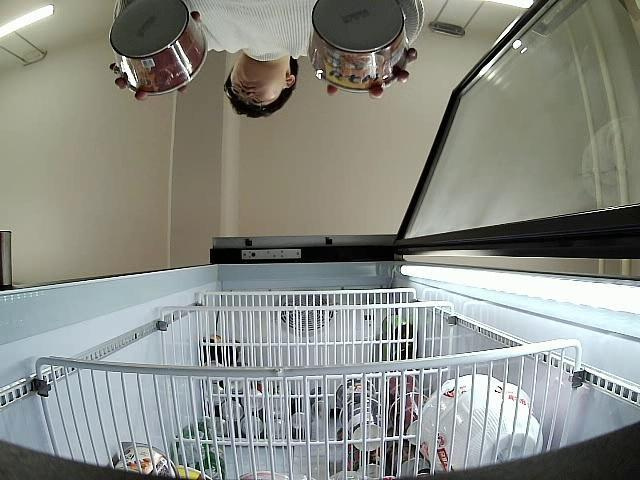05_nuguri_L: (308, 0, 409, 91), (111, 0, 208, 94)
